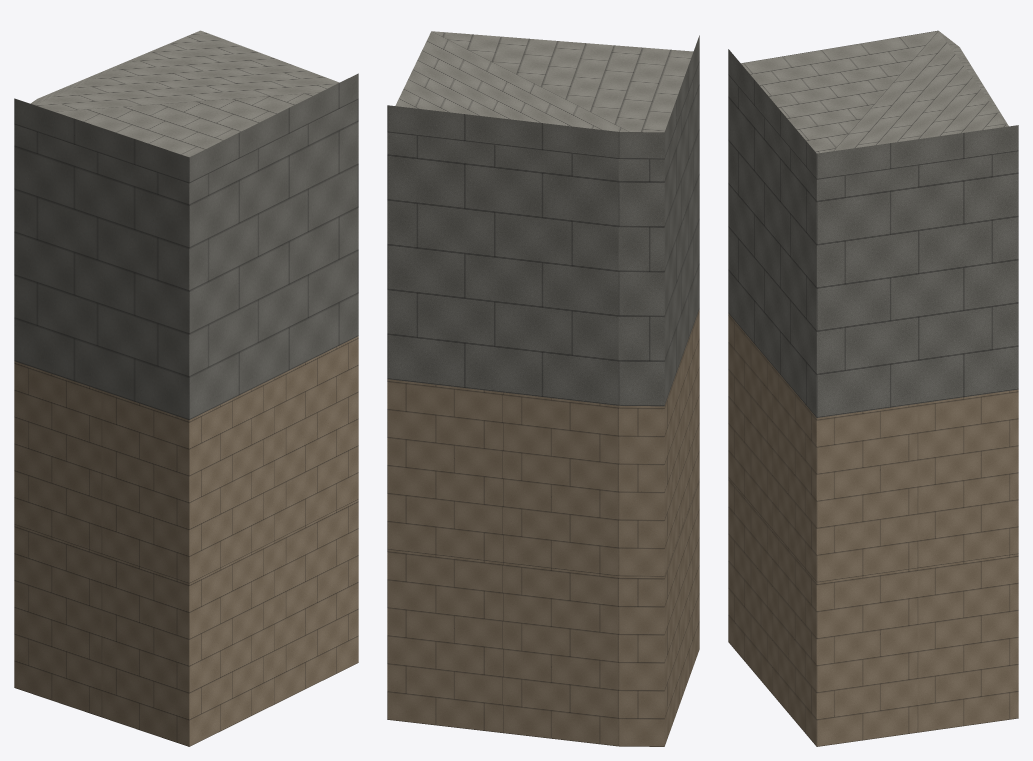
File: bld_c33_-40_440.gltf
The picture shows the model from 3 angles, left to right: view 1: azimuth 30°, elevation 25°; view 2: azimuth 150°, elevation 25°; view 3: azimuth 270°, elevation 25°; orthographic projection. The views are drawn at different scales.
Visible parts, largest first — view 1: bld_c33_-40_440; view 2: bld_c33_-40_440; view 3: bld_c33_-40_440.
Part boxes in pixels (x1,y1,x2,y2): bld_c33_-40_440: [14, 30, 358, 746]; bld_c33_-40_440: [387, 31, 699, 746]; bld_c33_-40_440: [728, 30, 1018, 746].
Bounding box in the file's own units: 4.33 × 8.58 × 3.8.
4 materials, 4 textured.
